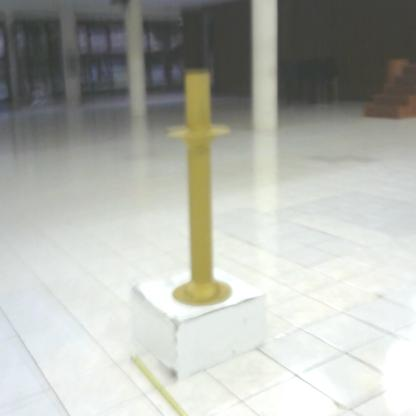pole: (160, 57, 243, 321)
